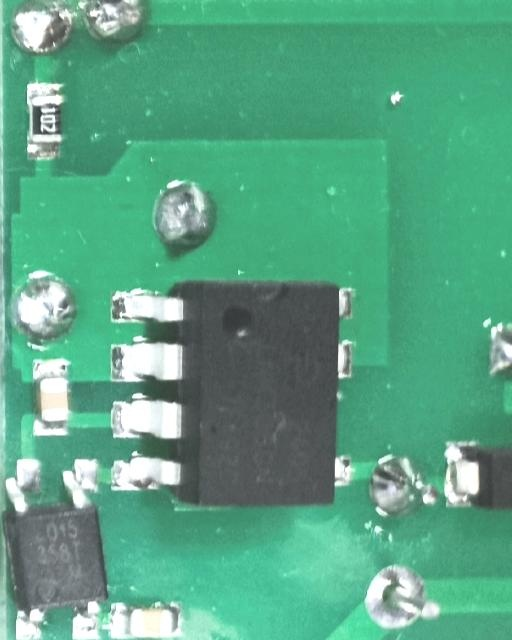chip-capacitor: (29, 355, 70, 437), (108, 601, 185, 639)
chip-resistor: (25, 79, 66, 161)
ic: (105, 274, 353, 518), (2, 454, 104, 640)
